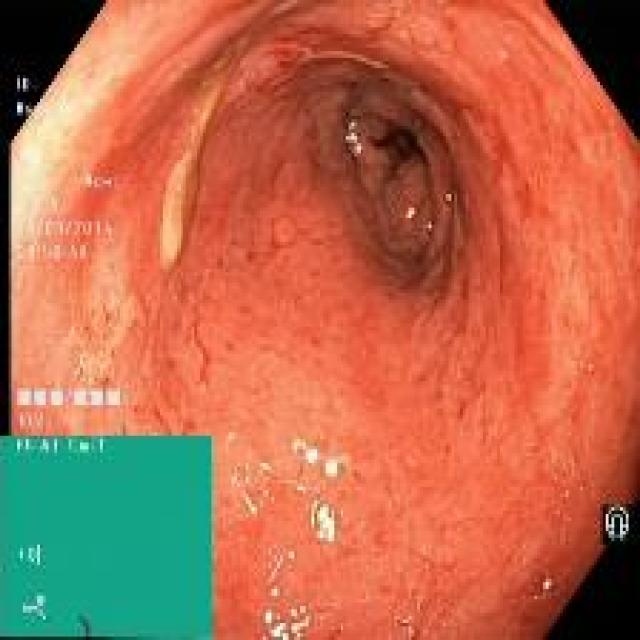ulcerative-colitis-grade-1: (11, 3, 640, 639)
